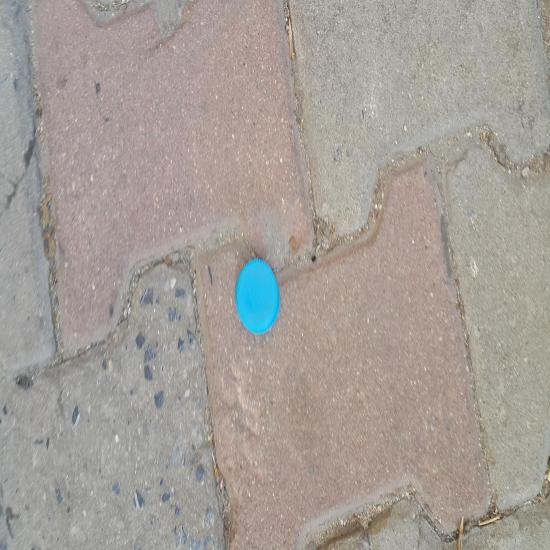Clear plastic bottle: (101, 209, 193, 550)
